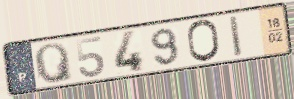4: (113, 28, 147, 74)
5: (74, 35, 106, 79)
9: (149, 26, 182, 67)
I: (228, 13, 245, 59)
O: (185, 18, 222, 64)
Q: (32, 42, 75, 86)
